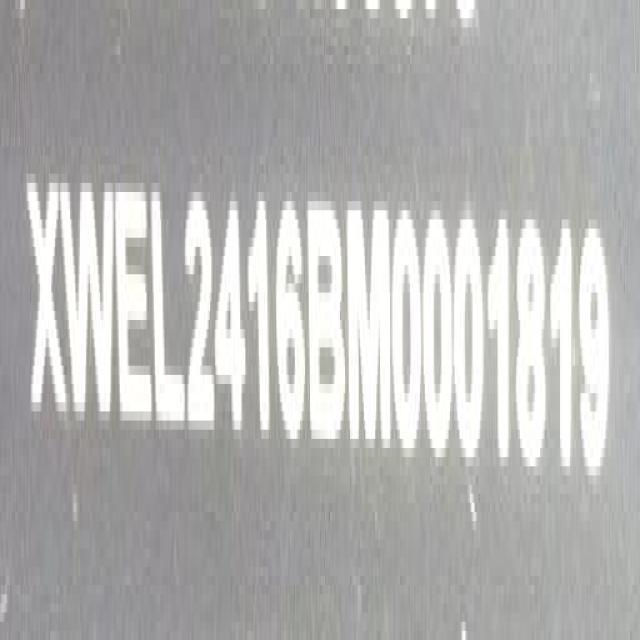0: (451, 204, 483, 467), (394, 202, 426, 462), (423, 205, 453, 466)
1: (487, 202, 512, 472), (550, 212, 574, 482), (250, 184, 274, 446)
2: (186, 184, 217, 444)
4: (215, 188, 247, 443)
6: (276, 192, 309, 454)
8: (517, 209, 549, 478)
9: (579, 224, 615, 488)
B: (308, 192, 347, 452)
E: (117, 172, 153, 438)
L: (151, 181, 184, 439)
M: (348, 195, 392, 458)
W: (68, 165, 119, 438)
X: (29, 167, 68, 435)
